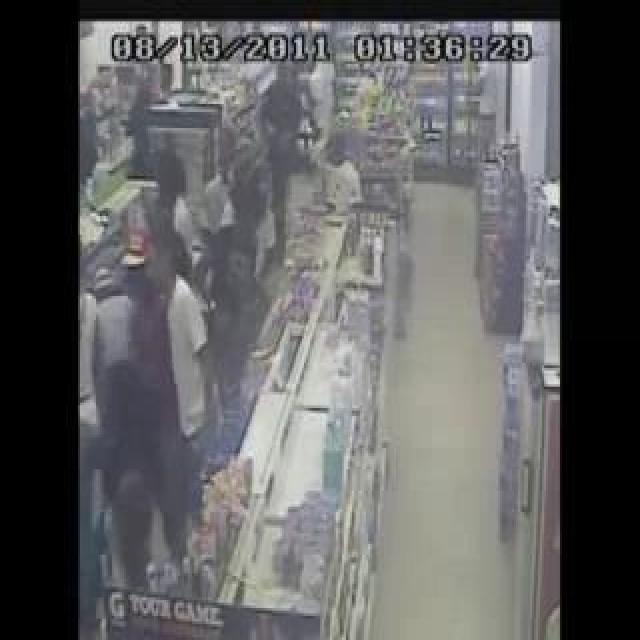thief: (90, 261, 213, 423), (201, 148, 254, 282)
